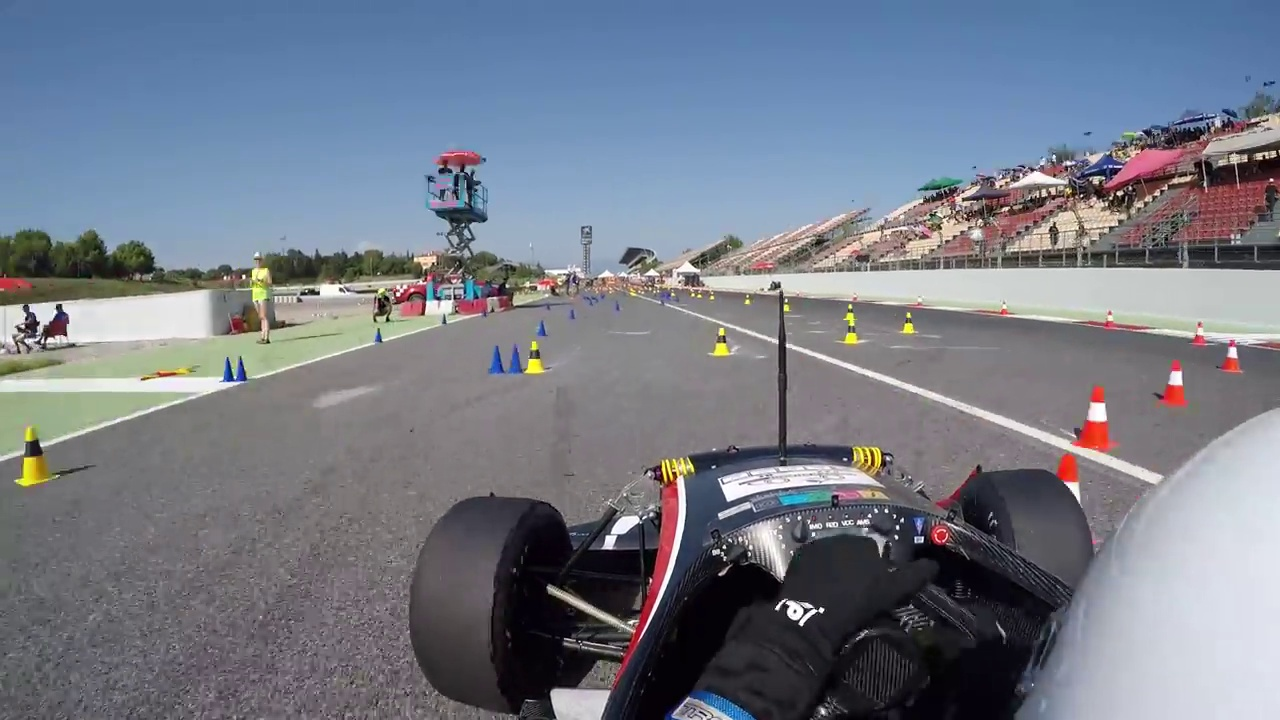Cone: (16, 426, 57, 485), (1080, 382, 1115, 449), (1158, 359, 1190, 404), (526, 338, 548, 376), (1221, 338, 1244, 372), (841, 318, 863, 345), (712, 325, 730, 356), (489, 344, 506, 372), (507, 343, 524, 371)
